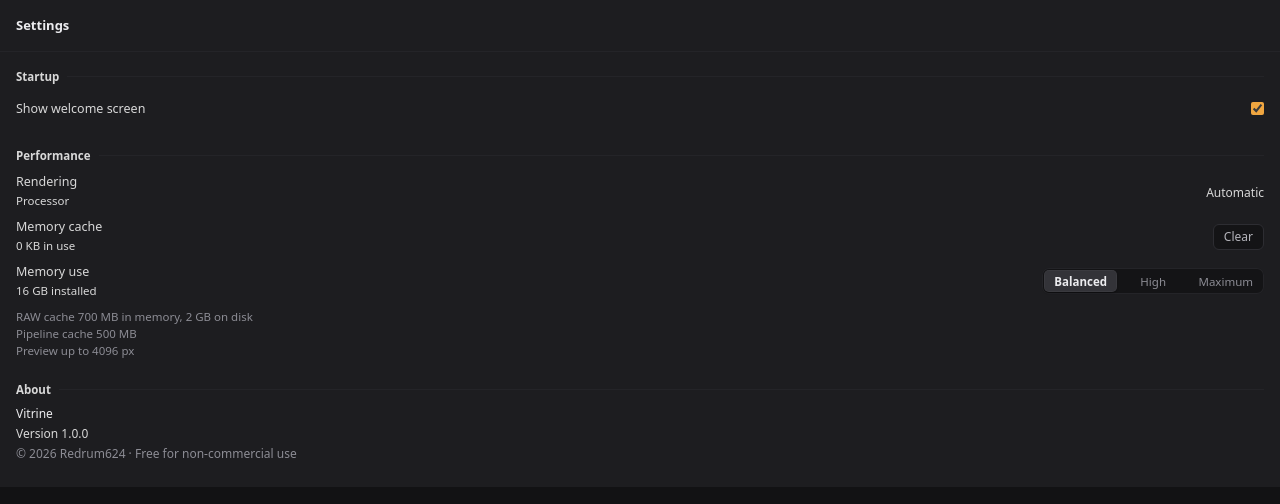
Test: SettingsPanel — memory preset › choosing a preset persists via the durable store and updates the numbers; no restart prompt
Expected: the text "16 GB installed" is shown, [16,282,97,300]
Click the tab "High": click(1153, 281) [1117,270,1189,292]
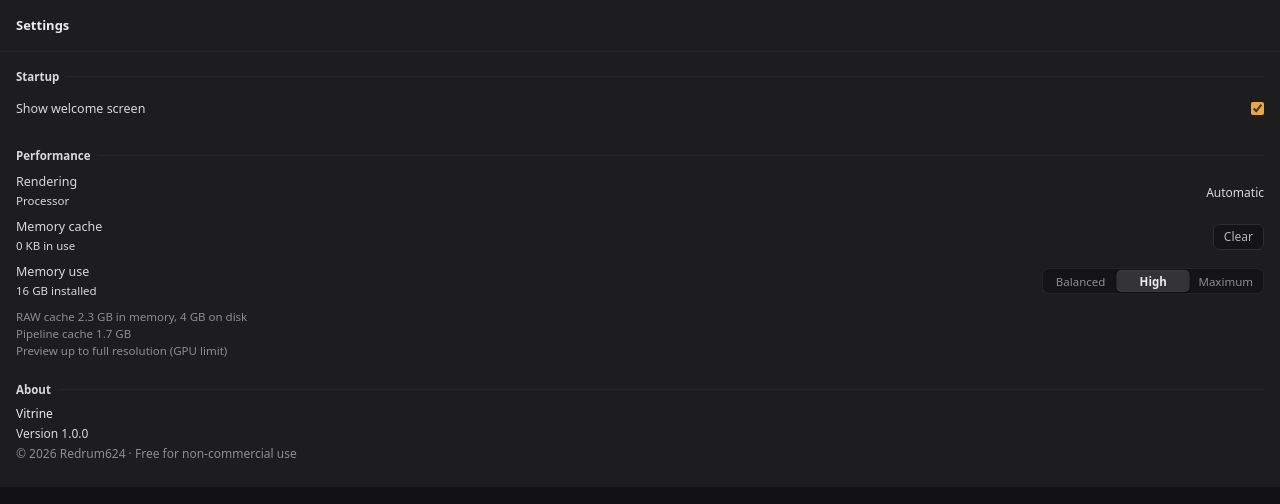
Result: the list named "Memory budgets" shows "2.3 GB in memory, 4 GB on disk" at [16,308,247,324]
